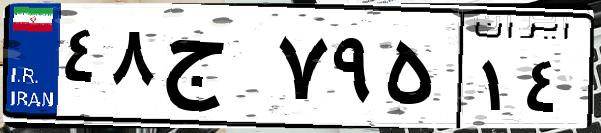1: (475, 38, 525, 113)
4: (57, 26, 110, 100), (525, 38, 570, 115)
5: (385, 28, 445, 110)
7: (270, 28, 330, 110)
8: (110, 28, 158, 98)
9: (330, 28, 385, 110)
ج: (158, 20, 270, 120)
